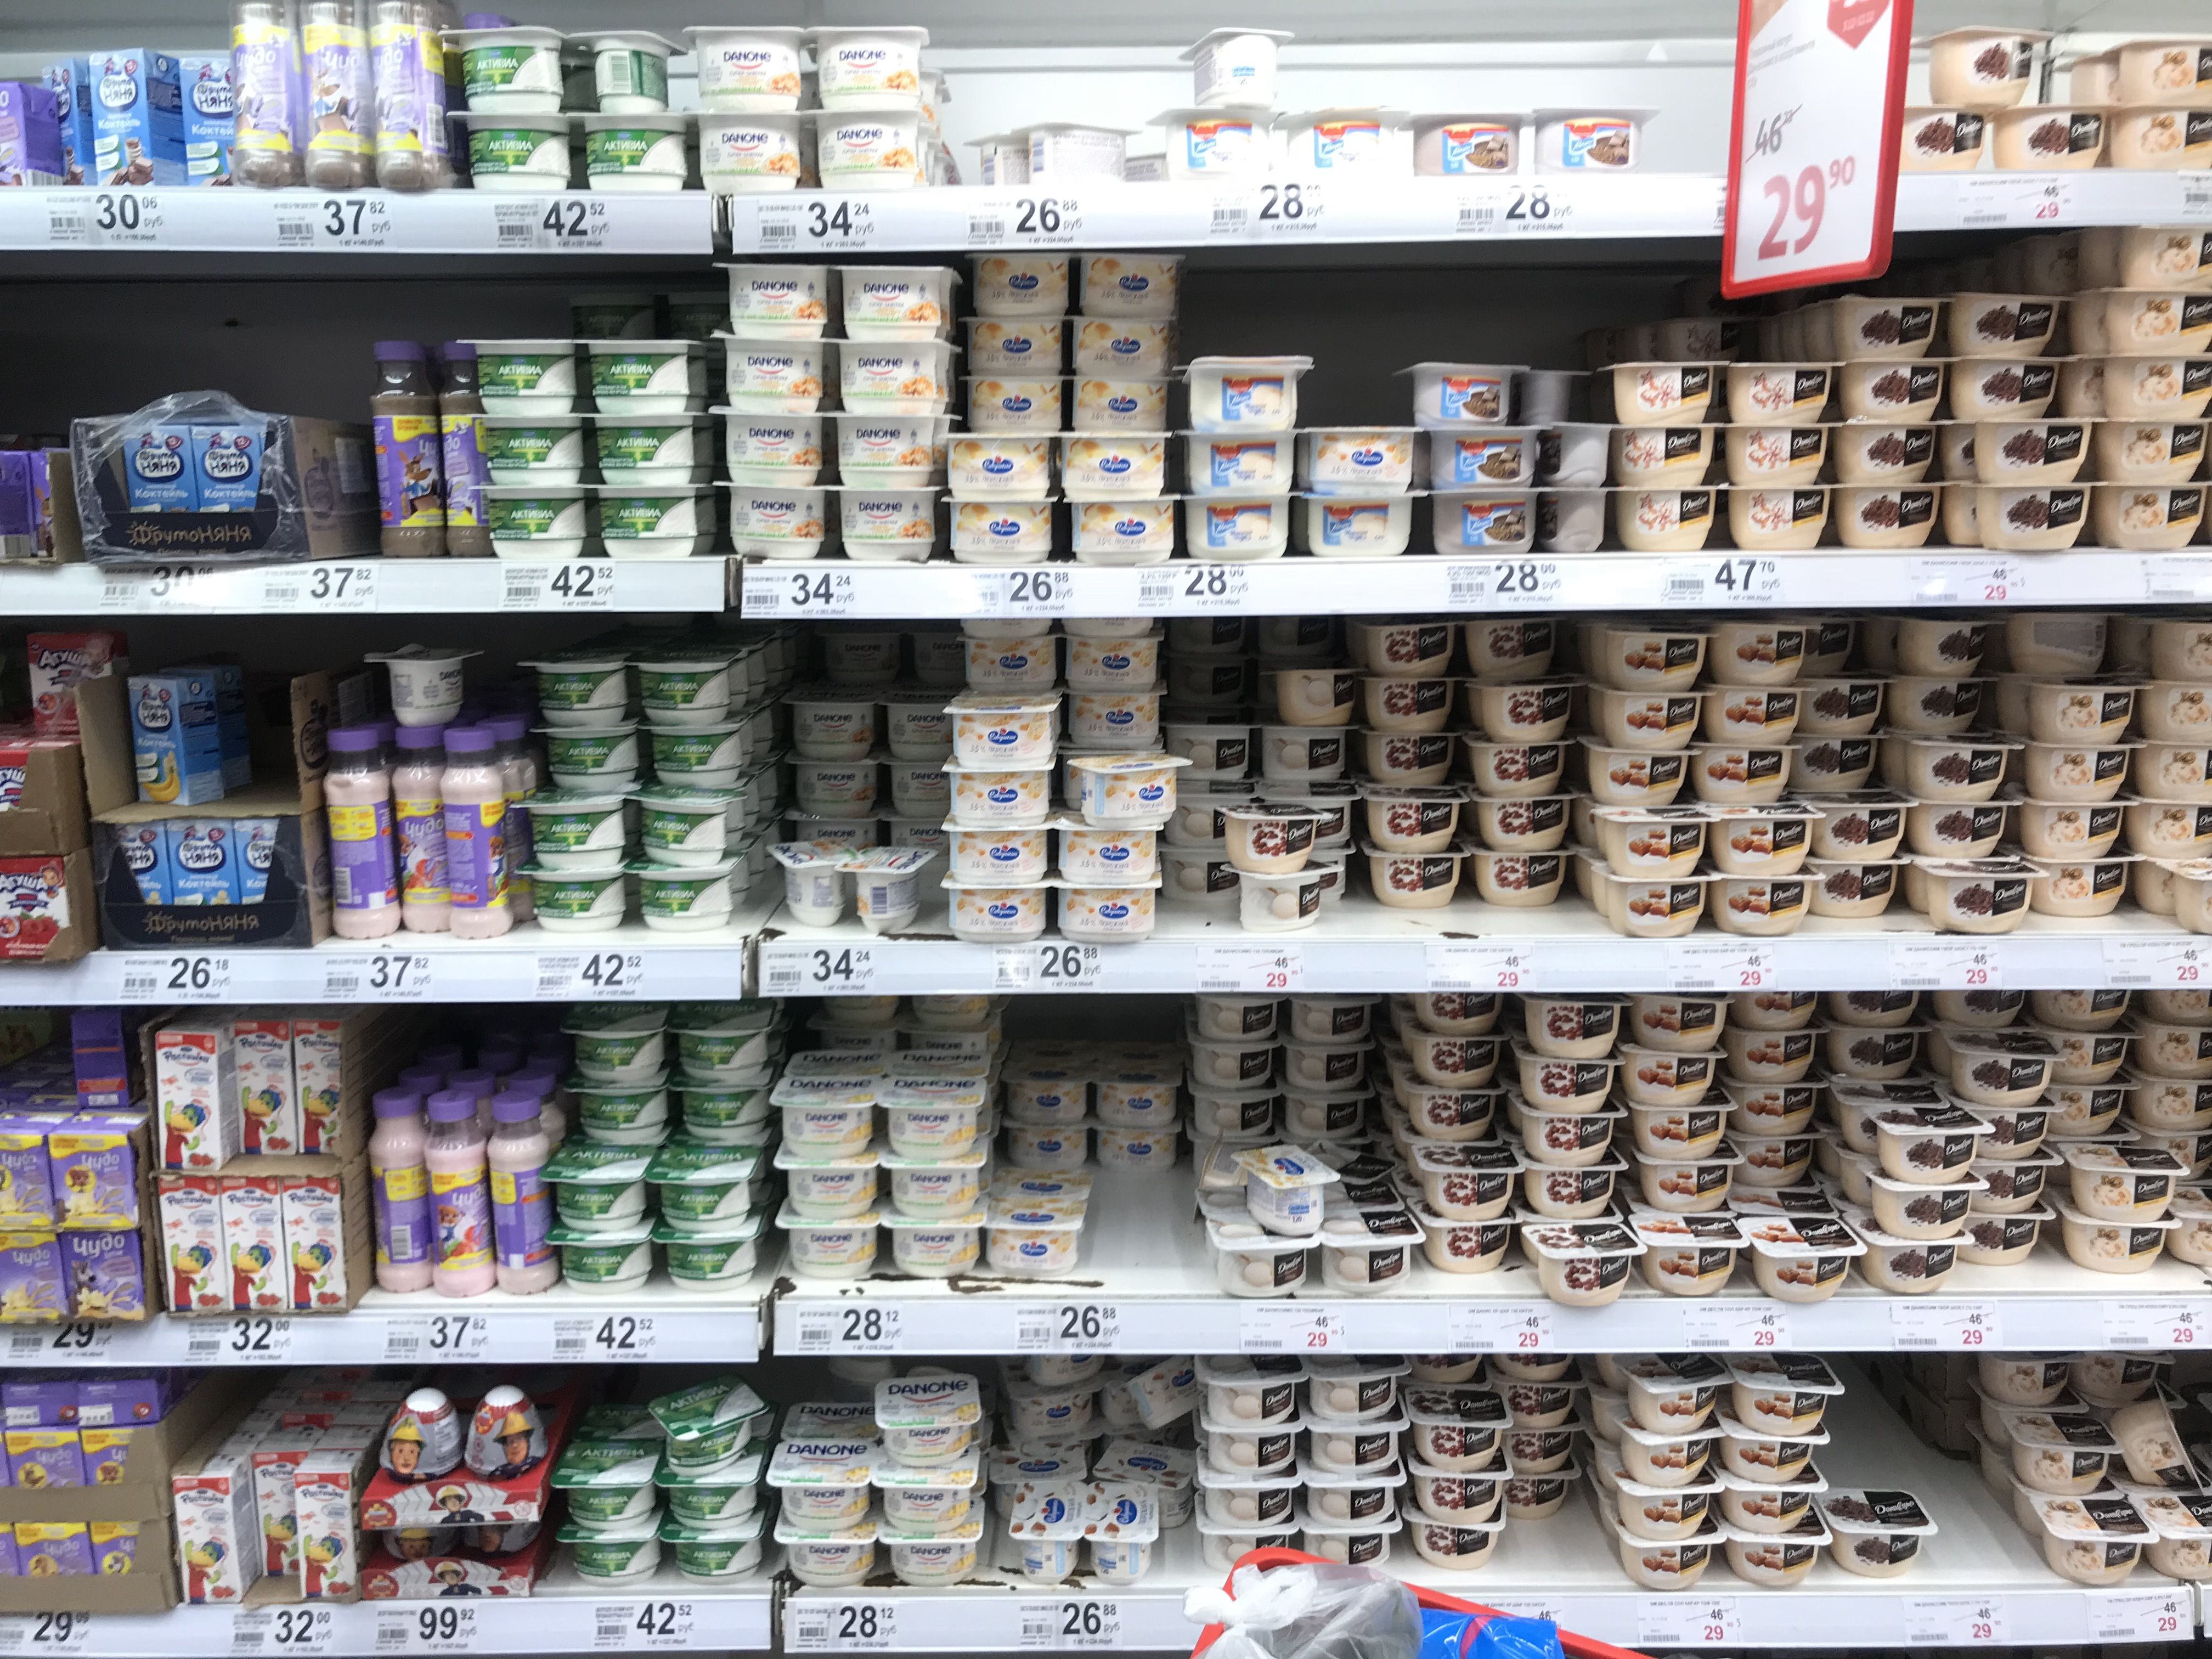yogbox: (1284, 113, 1409, 176), (1181, 33, 1291, 103), (1068, 498, 1176, 568), (1310, 422, 1418, 491), (1163, 110, 1280, 174), (949, 697, 1059, 763), (1080, 1493, 1160, 1584), (1059, 430, 1170, 495), (1426, 425, 1538, 490), (949, 816, 1059, 880), (1029, 124, 1137, 188), (1184, 430, 1299, 490), (1409, 364, 1521, 425), (1078, 756, 1181, 821), (1242, 1150, 1327, 1227), (1409, 113, 1519, 173), (942, 497, 1054, 554), (1193, 352, 1301, 411), (1432, 490, 1536, 551), (942, 434, 1042, 497), (989, 1206, 1089, 1269), (949, 770, 1054, 830), (1080, 251, 1181, 312), (1183, 495, 1287, 552), (949, 884, 1050, 943), (1055, 823, 1160, 878), (1062, 880, 1158, 939), (1543, 113, 1639, 173), (1066, 688, 1165, 744), (961, 636, 1057, 694), (1082, 321, 1177, 378), (972, 251, 1064, 310), (1014, 1495, 1075, 1582), (1066, 633, 1158, 688), (963, 376, 1071, 422), (1543, 486, 1613, 556), (1543, 422, 1613, 490), (1097, 1070, 1181, 1124), (1075, 380, 1170, 427), (1010, 1387, 1103, 1434), (961, 131, 1038, 186), (1127, 1361, 1197, 1422), (1010, 1068, 1083, 1124), (1526, 368, 1592, 418), (981, 328, 1055, 366)
yogbox.danis.tv.balls: (1536, 1229, 1644, 1307), (1409, 1387, 1510, 1467), (1418, 1147, 1521, 1218), (1519, 990, 1627, 1058), (1364, 789, 1465, 856), (1217, 803, 1318, 870), (1407, 1467, 1526, 1523), (1411, 1028, 1514, 1091), (1406, 1507, 1505, 1570), (1463, 739, 1571, 796), (1519, 1053, 1623, 1112), (1366, 854, 1467, 913), (1470, 847, 1568, 908), (1360, 674, 1463, 730), (1522, 1162, 1622, 1220), (1463, 620, 1559, 680), (1406, 1082, 1507, 1138), (1421, 1211, 1517, 1269), (1360, 730, 1461, 784), (1522, 1110, 1613, 1169), (1468, 795, 1571, 845), (1477, 685, 1575, 737), (1364, 622, 1456, 673), (1414, 993, 1507, 1032), (1507, 1473, 1569, 1513), (1514, 1384, 1571, 1419), (1510, 1436, 1573, 1464)
yogbox.danis.tv.choco: (1827, 1481, 1939, 1577), (1921, 31, 2050, 103), (1951, 295, 2076, 361), (1979, 486, 2094, 554), (1925, 861, 2036, 929), (1952, 1033, 2057, 1105), (2001, 108, 2109, 174), (1874, 1110, 1973, 1180), (1907, 739, 2019, 800), (1979, 416, 2092, 476), (1836, 484, 1946, 544), (1869, 1230, 1975, 1291), (1822, 1019, 1928, 1080), (1912, 800, 2017, 861), (1952, 352, 2050, 415), (1838, 427, 1940, 486), (1838, 296, 1937, 356), (1904, 108, 1994, 173), (1897, 674, 1989, 737), (1843, 366, 1949, 420), (1817, 795, 1907, 857), (1902, 620, 1996, 674), (1878, 1185, 1977, 1236), (1968, 1208, 2048, 1265), (1972, 1105, 2054, 1161), (1820, 864, 1905, 915), (1810, 674, 1881, 732), (1804, 739, 1872, 791), (1975, 1161, 2048, 1206), (1804, 617, 1865, 667)
yogbox.danis.tv.ice: (1325, 1218, 1425, 1290), (1198, 1363, 1296, 1424), (1217, 1232, 1315, 1293), (1200, 1419, 1305, 1473), (1308, 1359, 1406, 1417), (1301, 1474, 1407, 1525), (1200, 1473, 1299, 1525), (1310, 1420, 1407, 1473), (1268, 666, 1353, 725), (1259, 725, 1345, 782), (1237, 873, 1324, 929), (1169, 725, 1254, 777), (1195, 1089, 1285, 1134), (1294, 993, 1378, 1042), (1191, 995, 1280, 1040), (1287, 1042, 1374, 1087), (1165, 854, 1237, 906), (1292, 1091, 1376, 1134), (1198, 1044, 1278, 1087), (1264, 617, 1332, 655), (1177, 798, 1224, 845), (1179, 617, 1242, 650)
yogbox.danis.tv.imbr: (1726, 356, 1839, 425), (1724, 420, 1836, 486), (1613, 423, 1719, 490), (1721, 488, 1834, 549), (1608, 361, 1714, 422), (1618, 490, 1724, 547), (1653, 321, 1759, 364)
yogbox.danis.tv.nut: (2048, 1500, 2149, 1575), (2066, 1147, 2175, 1215), (2013, 1417, 2114, 1485), (2099, 416, 2205, 479), (2121, 1408, 2202, 1490), (2104, 356, 2212, 415), (2116, 106, 2212, 169), (2107, 291, 2212, 349), (2106, 486, 2200, 542), (2064, 1218, 2167, 1267), (2121, 40, 2209, 98), (2121, 230, 2212, 284), (2151, 1495, 2212, 1567), (1982, 1354, 2074, 1398), (2083, 1349, 2160, 1401), (2048, 692, 2130, 735), (2137, 1079, 2212, 1126), (2040, 863, 2120, 906), (2031, 805, 2113, 845), (2146, 805, 2210, 854), (2144, 1025, 2212, 1070), (2057, 1089, 2123, 1133), (2060, 1035, 2121, 1080), (2043, 753, 2118, 789), (2153, 744, 2209, 789), (2050, 990, 2123, 1021), (2165, 688, 2212, 732)
yogbox.danis.tv.solkar: (1743, 1220, 1858, 1300), (1637, 1220, 1735, 1295), (1714, 870, 1817, 934), (1604, 814, 1705, 877), (1625, 1364, 1719, 1431), (1735, 1370, 1836, 1431), (1604, 877, 1707, 936), (1714, 810, 1817, 870), (1695, 741, 1789, 798), (1641, 1154, 1735, 1209), (1723, 1483, 1820, 1535), (1622, 1486, 1719, 1537), (1622, 1537, 1716, 1589), (1730, 1427, 1825, 1478), (1723, 1535, 1818, 1586), (1639, 993, 1726, 1047), (1625, 1432, 1721, 1481), (1630, 1053, 1719, 1105), (1592, 755, 1688, 800), (1737, 1084, 1815, 1138), (1730, 1028, 1808, 1079), (1735, 1134, 1815, 1182), (1616, 638, 1696, 685), (1723, 629, 1796, 678), (1615, 699, 1698, 737), (1719, 692, 1794, 732), (1740, 993, 1818, 1023)
